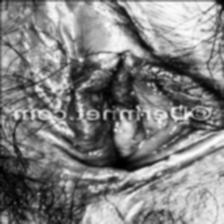Toxin: (104, 122, 182, 160), (106, 68, 164, 106), (52, 184, 90, 208), (110, 209, 150, 224), (3, 144, 36, 160), (164, 180, 186, 192)
